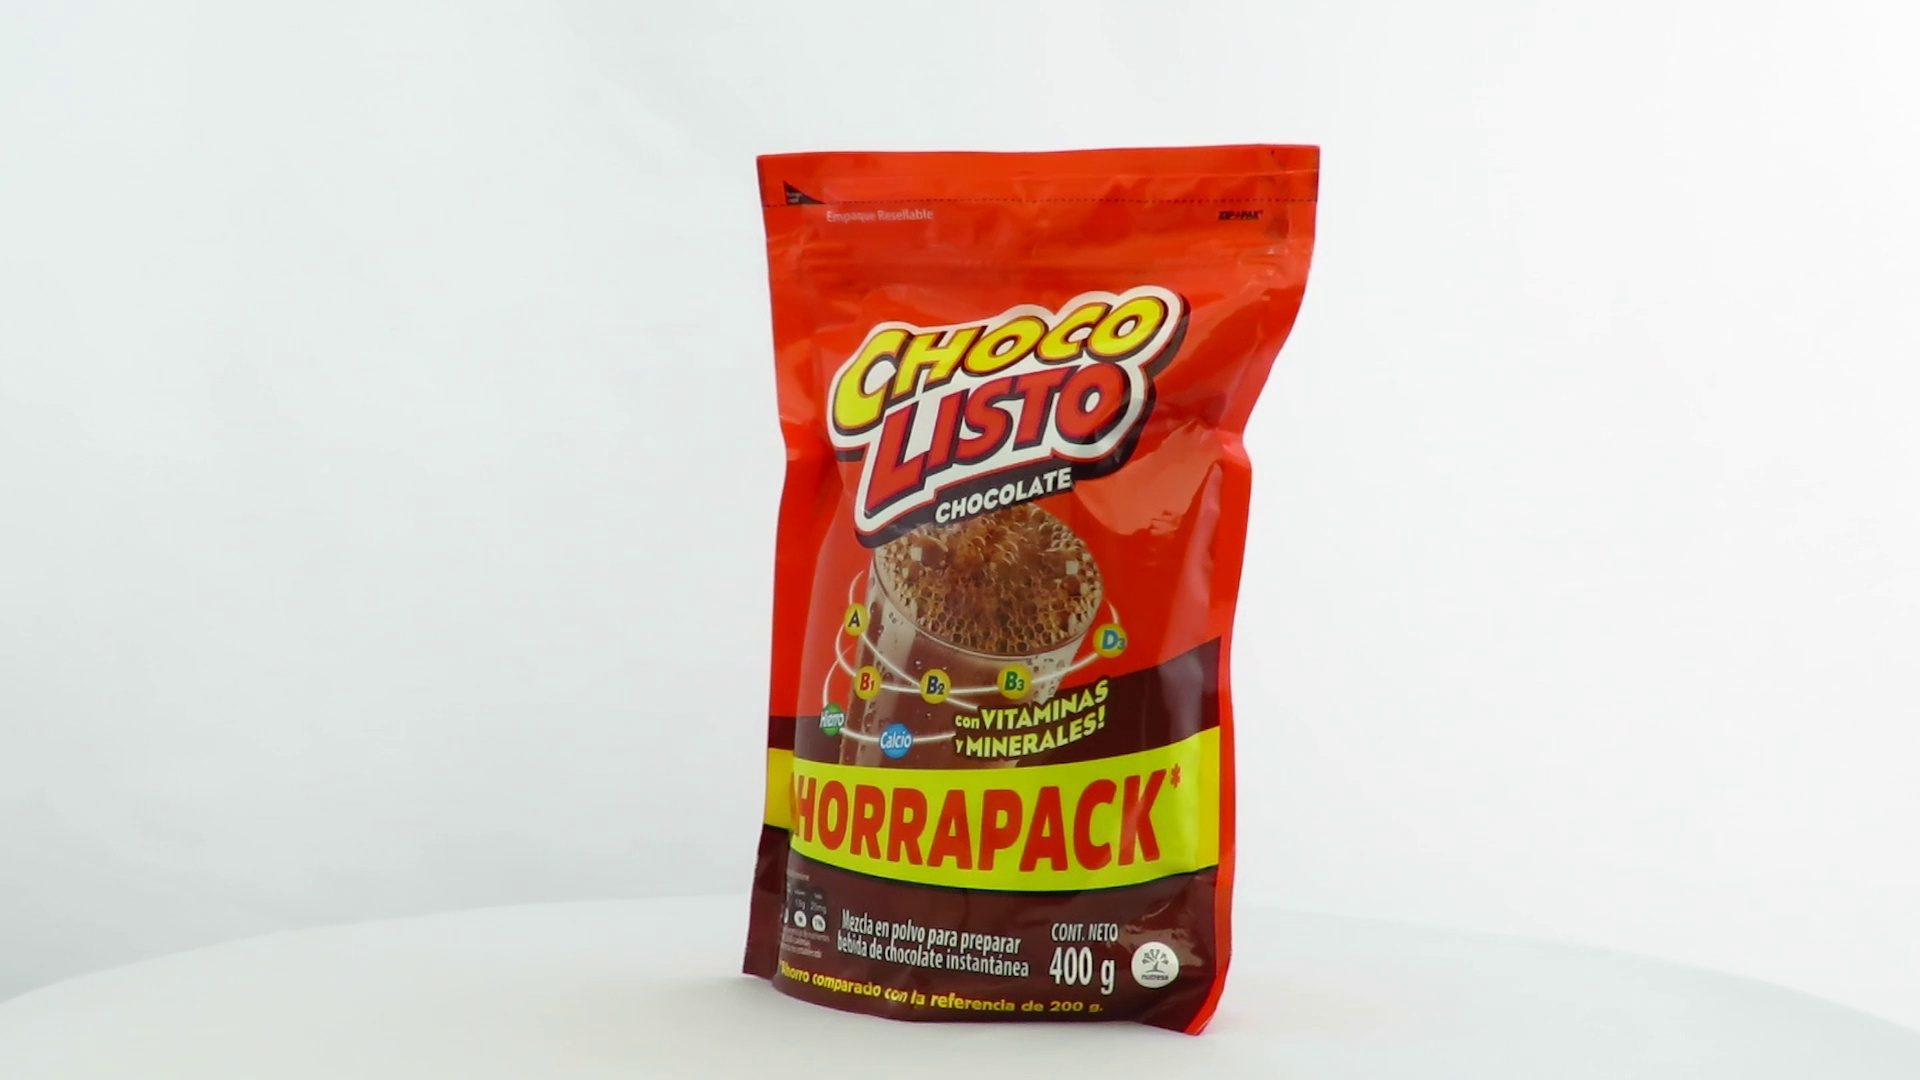COL0170103DYP40000: (737, 138, 1327, 1042)
